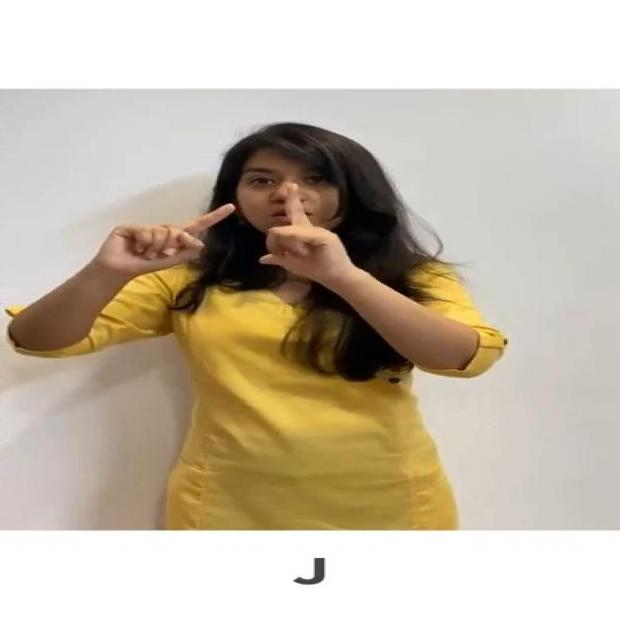I: (72, 177, 374, 293)
